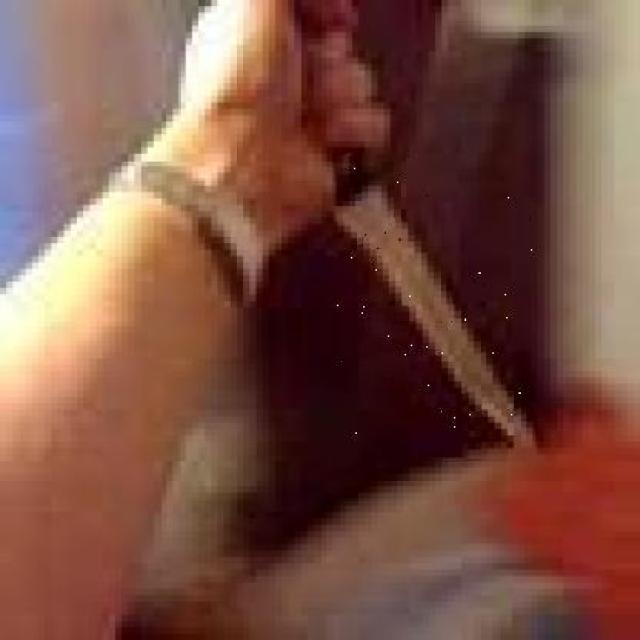knife: (336, 154, 536, 463)
